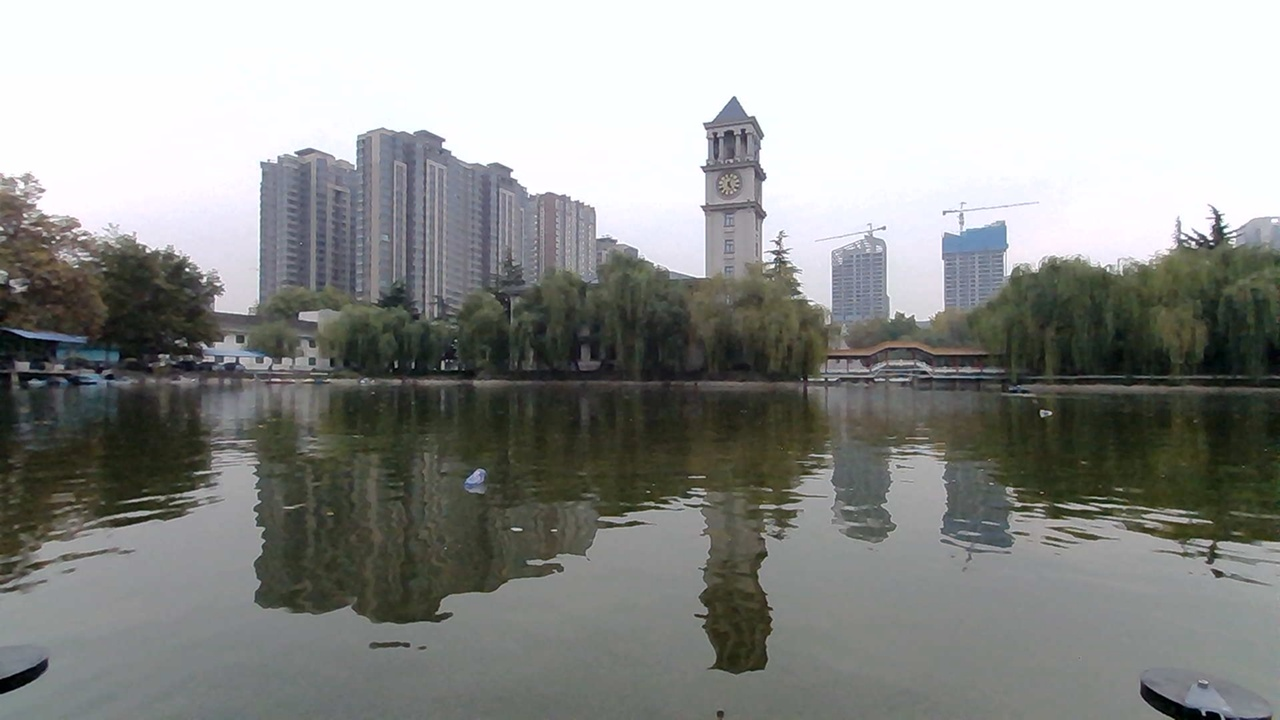bottle: (447, 450, 525, 497), (1013, 398, 1070, 426)
